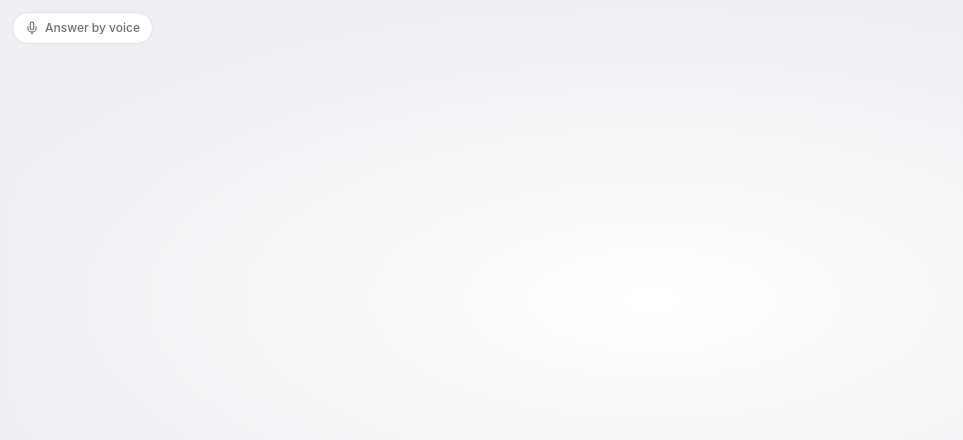
it: SpeakAnswerButton › keeps every dictated sentence, not only the last one
Later steps or results of the test are not shown.
Click the button "Answer by voice" at (82, 28), box [12,12,153,44]
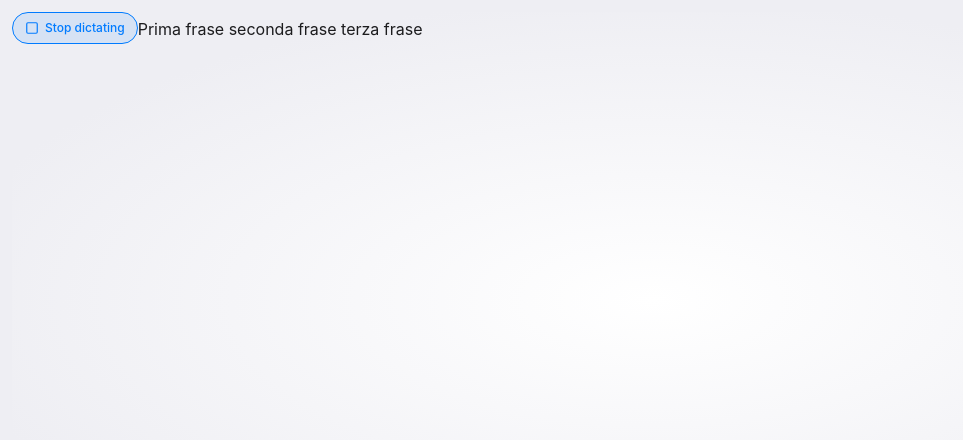
Expected: the text with test id "answer" reads "Prima frase seconda frase terza frase", [138,19,423,39]
